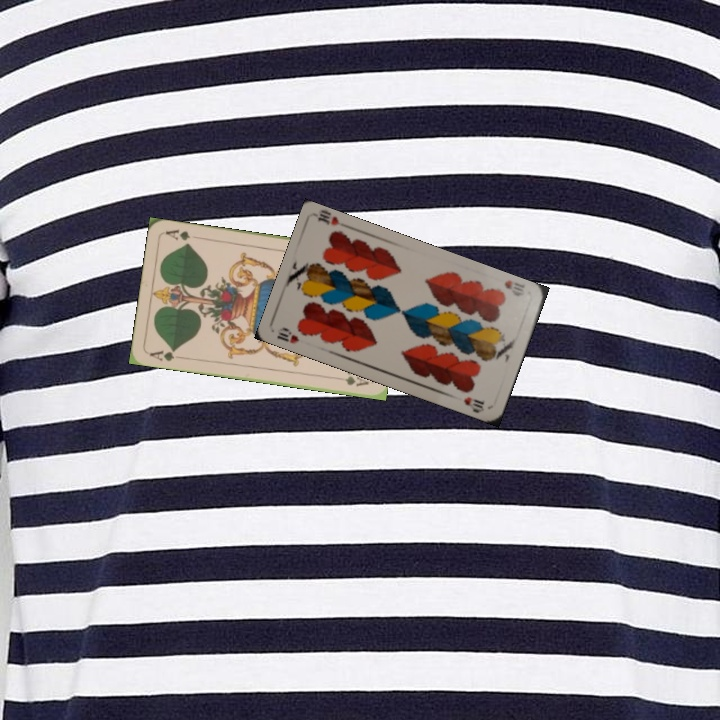GA: (145, 345, 185, 364)
H10: (273, 323, 301, 346), (500, 276, 527, 299)
